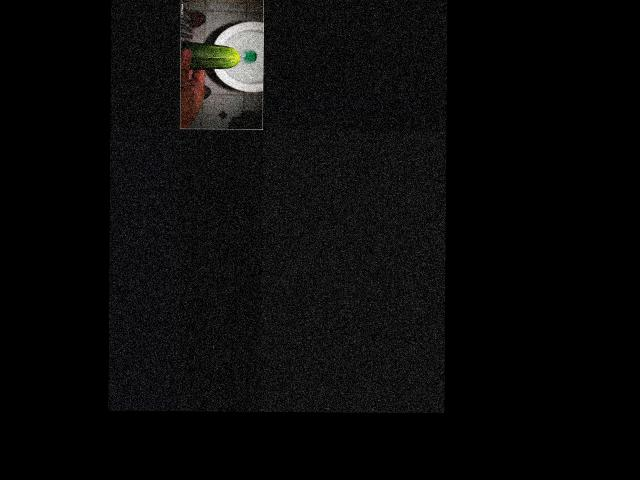cucumber: (179, 41, 239, 69)
